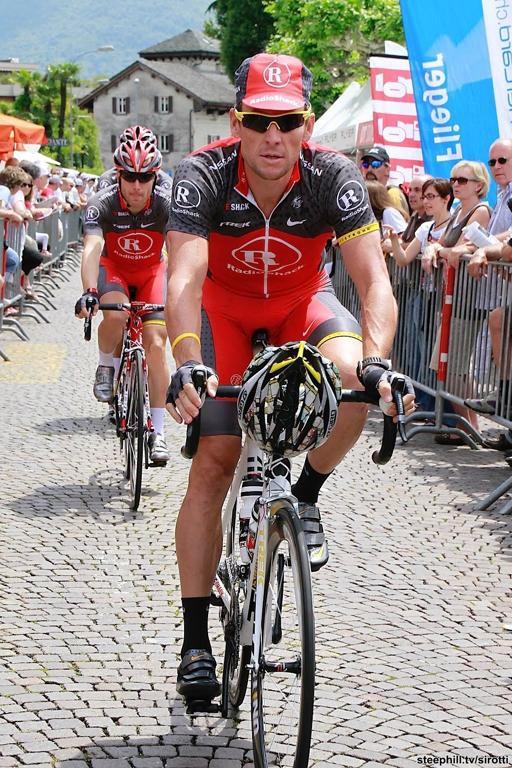non-vehicle: (173, 365, 408, 768), (82, 293, 167, 512)
